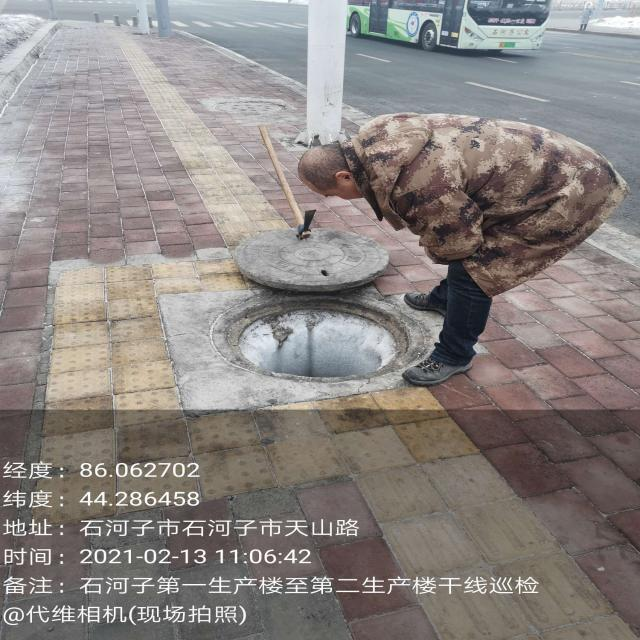manhole: (239, 308, 398, 378)
